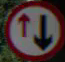Two way: (12, 9, 57, 54)
